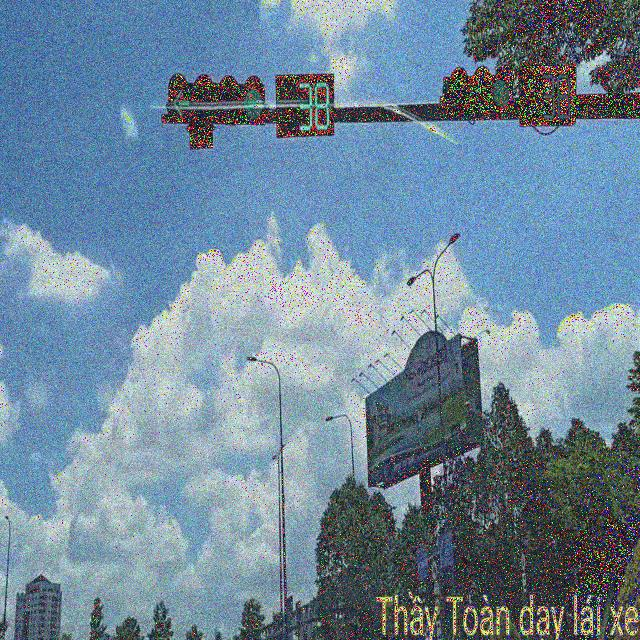Biển phụ: (521, 570, 527, 594)
Chỉ hướng đường: (435, 529, 454, 568)
Cấm xe máy: (429, 556, 439, 582)
Khác: (515, 545, 527, 568)
Làn đường cho từng xe: (411, 542, 430, 577)
